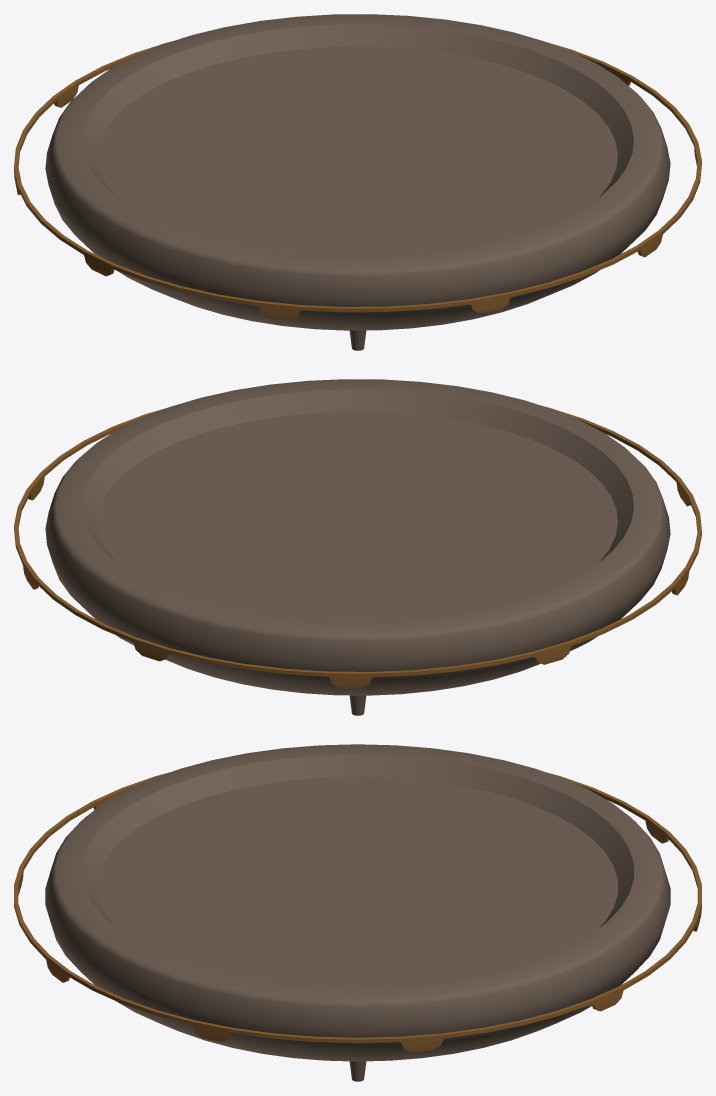
The model's file is City-Ring.fbx.
3 renders of one model, top to bottom at view 1: azimuth 30°, elevation 25°; view 2: azimuth 150°, elevation 25°; view 3: azimuth 270°, elevation 25°, orthographic.
Parts seen in each view (by area): view 1: pSphere1, pPipe1; view 2: pSphere1, pPipe1; view 3: pSphere1, pPipe1.
Part boxes in pixels (x1=…): pSphere1: x1=45, y1=14, x2=670, y2=350; pPipe1: x1=14, y1=41, x2=701, y2=320; pSphere1: x1=45, y1=379, x2=670, y2=715; pPipe1: x1=14, y1=406, x2=701, y2=688; pSphere1: x1=45, y1=744, x2=670, y2=1081; pPipe1: x1=14, y1=772, x2=701, y2=1052.
Bounding box in the file's own units: 4.84 × 1.61 × 4.83.
